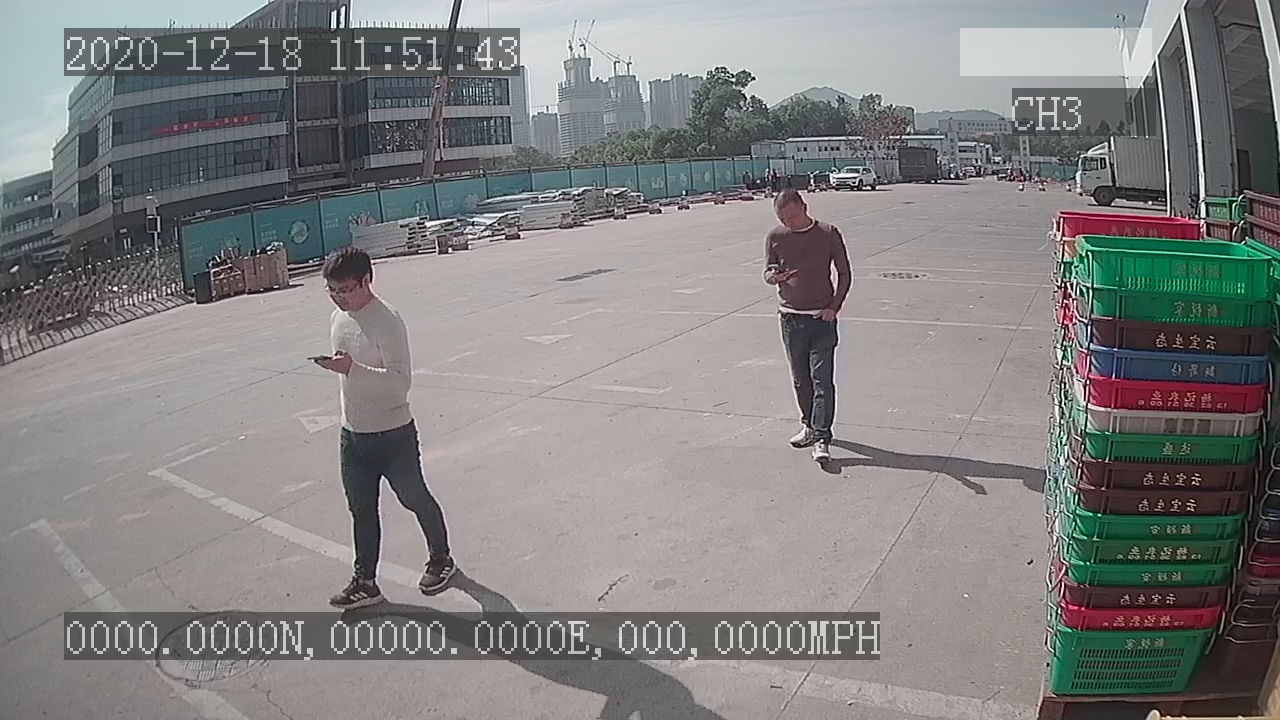person: (309, 238, 465, 610), (756, 183, 858, 472)
